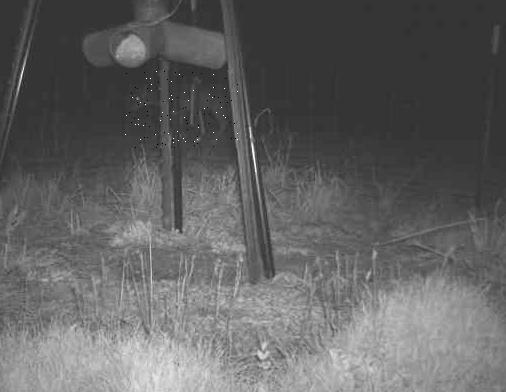Deer: (123, 70, 240, 148)
